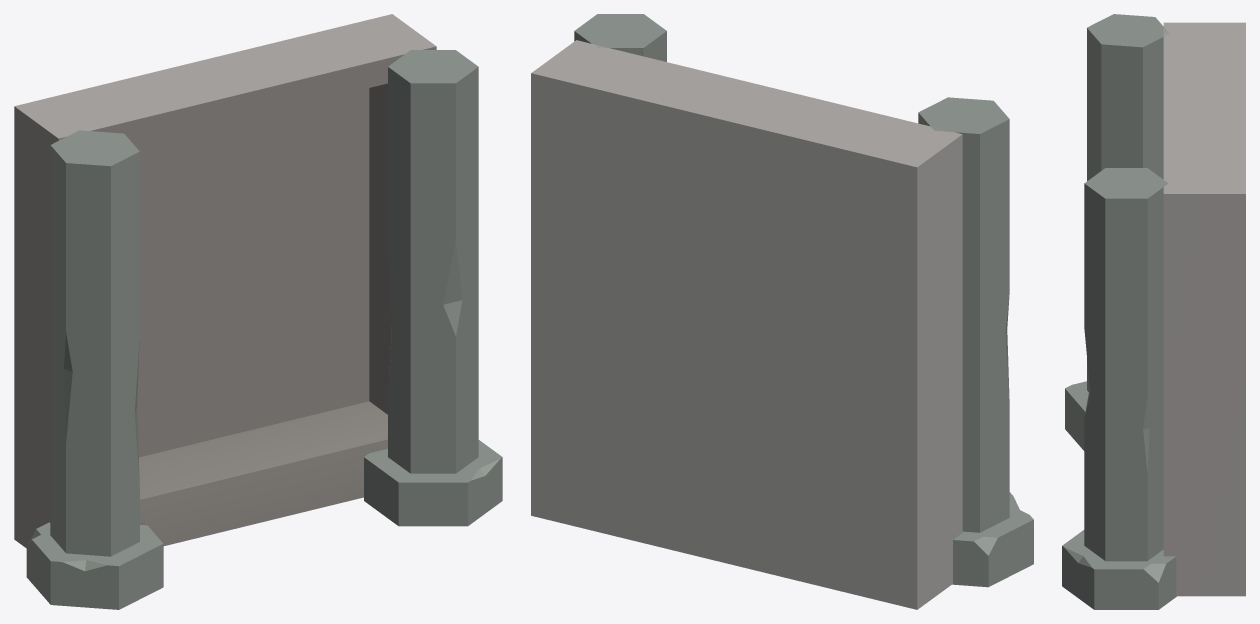
The model's file is SM_Env_Door_11.fbx.
The picture shows the model from 3 angles, left to right: view 1: azimuth 30°, elevation 25°; view 2: azimuth 150°, elevation 25°; view 3: azimuth 270°, elevation 25°; orthographic projection. The views are drawn at different scales.
Visible parts, largest first — view 1: SM_Env_Door_11; view 2: SM_Env_Door_11; view 3: SM_Env_Door_11.
Part boxes in pixels (x1=…): SM_Env_Door_11: x1=14, y1=14, x2=502, y2=609; SM_Env_Door_11: x1=531, y1=14, x2=1033, y2=609; SM_Env_Door_11: x1=1062, y1=14, x2=1245, y2=609.
Size of the model in its own units: 150 by 140 by 57.87.
Materials: 1 (1 with a texture image).
